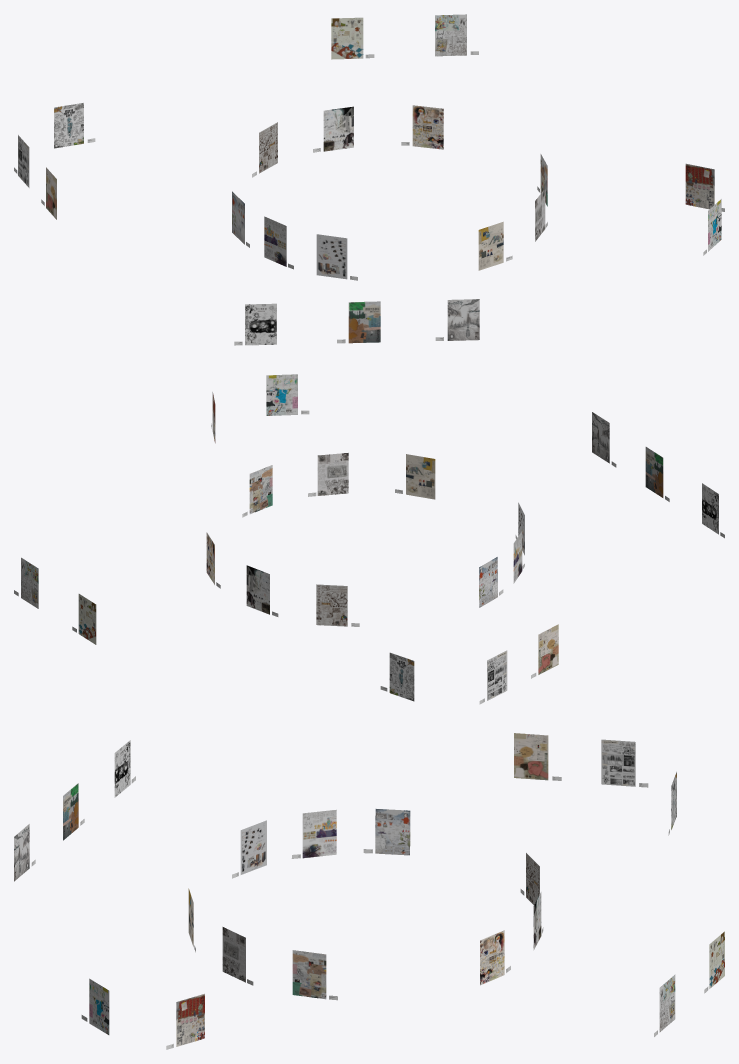
The model's file is sketchroom_work_group.fbx.
3 renders of one model, top to bottom at view 1: azimuth 30°, elevation 25°; view 2: azimuth 150°, elevation 25°; view 3: azimuth 270°, elevation 25°, orthographic. The views are drawn at different scales.
Visible parts, largest first — view 1: polySurface821, polySurface814, polySurface818, polySurface786, polySurface784, polySurface790, polySurface811, polySurface789, polySurface817, polySurface788, polySurface815, polySurface819 (+3 smaller); view 2: polySurface820, polySurface816, polySurface810, polySurface815, polySurface817, polySurface787, polySurface789, polySurface812, polySurface813, polySurface785, polySurface818, polySurface814 (+3 smaller); view 3: polySurface785, polySurface812, polySurface813, polySurface787, polySurface819, polySurface788, polySurface784, polySurface786, polySurface810, polySurface816, polySurface811, polySurface790 (+4 smaller).
Boxes of the visible parts, bbox=[...] form: polySurface821: bbox=[447, 299, 479, 340]; polySurface814: bbox=[348, 301, 380, 343]; polySurface818: bbox=[331, 17, 363, 59]; polySurface786: bbox=[412, 105, 443, 149]; polySurface784: bbox=[316, 234, 347, 279]; polySurface790: bbox=[435, 14, 466, 56]; polySurface811: bbox=[245, 303, 276, 345]; polySurface789: bbox=[323, 106, 353, 151]; polySurface817: bbox=[54, 102, 83, 148]; polySurface788: bbox=[685, 163, 714, 209]; polySurface815: bbox=[478, 221, 503, 270]; polySurface819: bbox=[264, 216, 286, 266]; polySurface820: bbox=[316, 584, 347, 626]; polySurface816: bbox=[266, 374, 297, 415]; polySurface810: bbox=[317, 453, 348, 495]; polySurface815: bbox=[406, 454, 435, 499]; polySurface817: bbox=[389, 652, 414, 701]; polySurface787: bbox=[249, 465, 272, 514]; polySurface789: bbox=[246, 565, 269, 614]; polySurface812: bbox=[487, 650, 507, 700]; polySurface813: bbox=[538, 624, 558, 674]; polySurface785: bbox=[479, 557, 497, 607]; polySurface818: bbox=[78, 594, 96, 644]; polySurface814: bbox=[645, 447, 663, 497]; polySurface785: bbox=[375, 809, 410, 855]; polySurface812: bbox=[601, 739, 635, 786]; polySurface813: bbox=[514, 733, 548, 780]; polySurface787: bbox=[292, 950, 326, 999]; polySurface819: bbox=[302, 809, 336, 858]; polySurface788: bbox=[176, 993, 204, 1046]; polySurface784: bbox=[240, 820, 266, 874]; polySurface786: bbox=[480, 930, 504, 985]; polySurface810: bbox=[222, 927, 245, 982]; polySurface816: bbox=[89, 978, 109, 1034]; polySurface811: bbox=[114, 740, 130, 797]; polySurface790: bbox=[659, 974, 675, 1032].
Size of the model in its own units: 4018 by 374 by 4437.
Materials: 4 (4 with a texture image).
